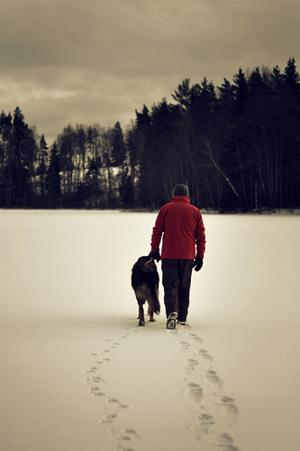person: (150, 186, 207, 331)
